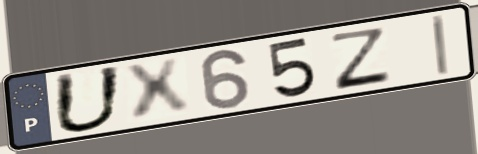5: (265, 35, 318, 100)
6: (197, 47, 253, 113)
I: (428, 11, 453, 79)
U: (51, 63, 126, 135)
X: (119, 55, 195, 126)
Z: (329, 26, 394, 92)
